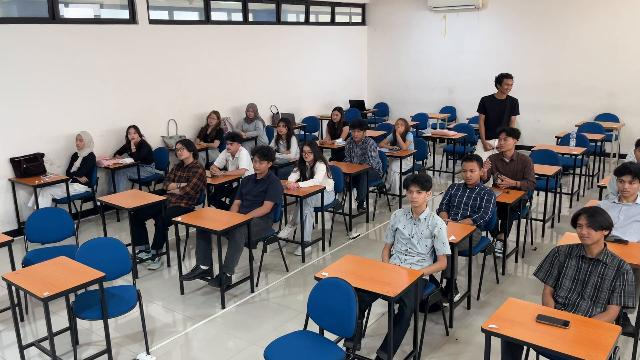fokus: (577, 220, 596, 244), (617, 177, 636, 196), (407, 188, 424, 206), (462, 165, 477, 184), (253, 157, 266, 173), (498, 135, 511, 151), (176, 144, 188, 158), (303, 147, 313, 161), (277, 122, 287, 134), (76, 135, 84, 149), (128, 130, 138, 141), (351, 129, 361, 140), (226, 140, 235, 152), (208, 114, 216, 124), (396, 121, 404, 131), (247, 108, 254, 118), (332, 112, 339, 122)
